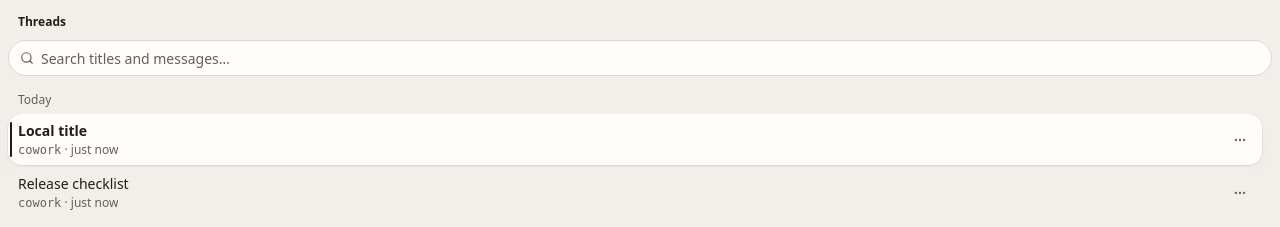
Test case: searching message text › says it is still searching messages while title matches are already shown
In the search field named "Search threads": [640, 58] box [8,40,1272,76], type "release"
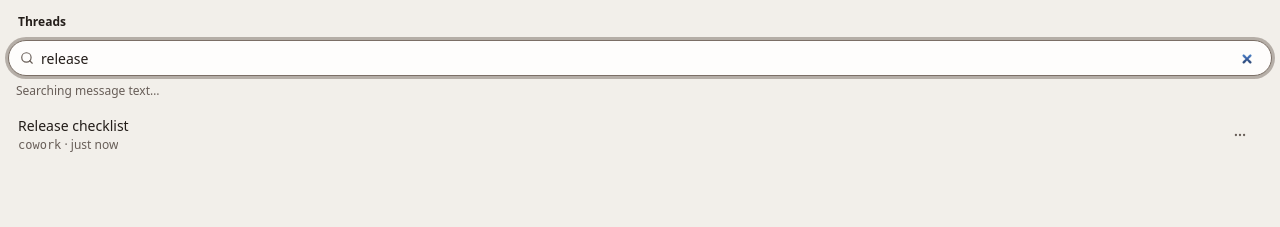
Check: the text "Release checklist" is shown, box [18,116,129,135]
Check: the text "Searching message text…" is shown, box [16,82,160,99]
